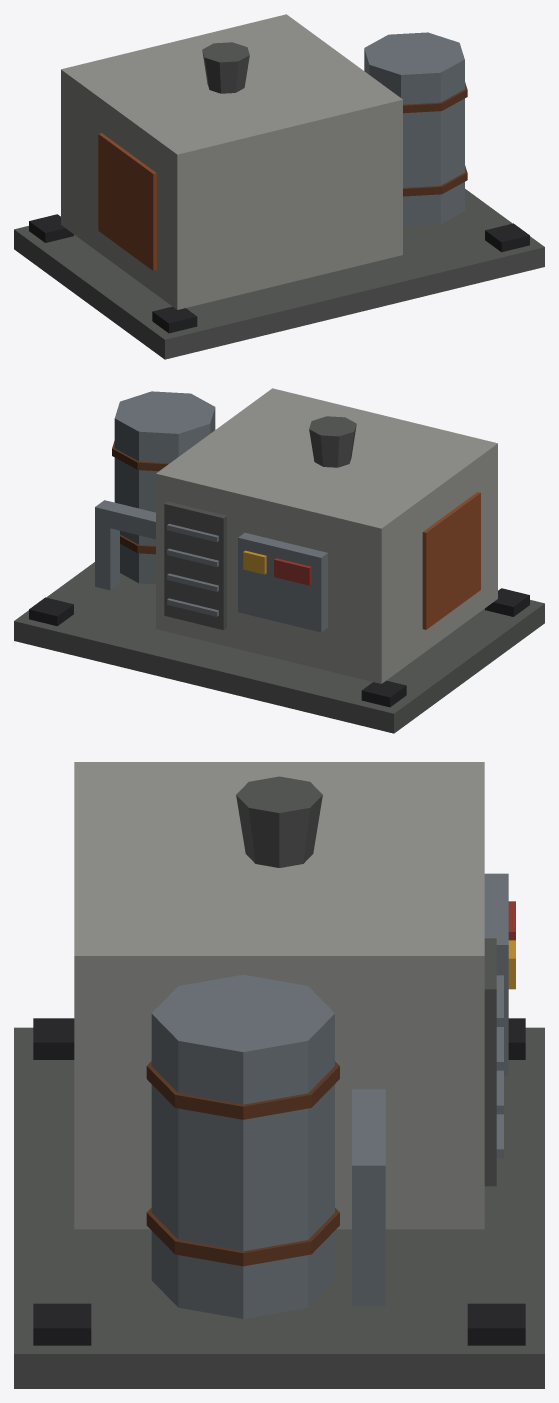
File: roof_machinery.glb
3 renders of one model, top to bottom at view 1: azimuth 30°, elevation 25°; view 2: azimuth 150°, elevation 25°; view 3: azimuth 270°, elevation 25°, orthographic. The views are drawn at different scales.
Visible parts, largest first — view 1: roof_machinery; view 2: roof_machinery; view 3: roof_machinery.
Part boxes in pixels (left/top/right/bottom): roof_machinery: left=14, top=14, right=544, bottom=359; roof_machinery: left=14, top=388, right=544, bottom=733; roof_machinery: left=14, top=762, right=544, bottom=1388.
Size of the model in its own units: 3.2 by 1.76 by 2.2.
3 materials, 3 textured.
